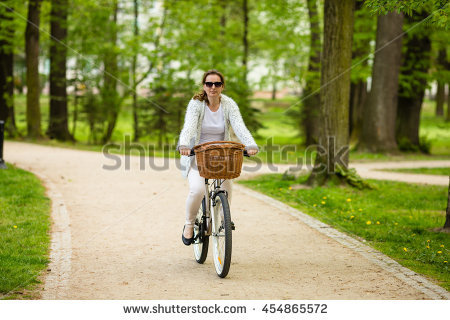bikerider: (164, 60, 268, 275)
